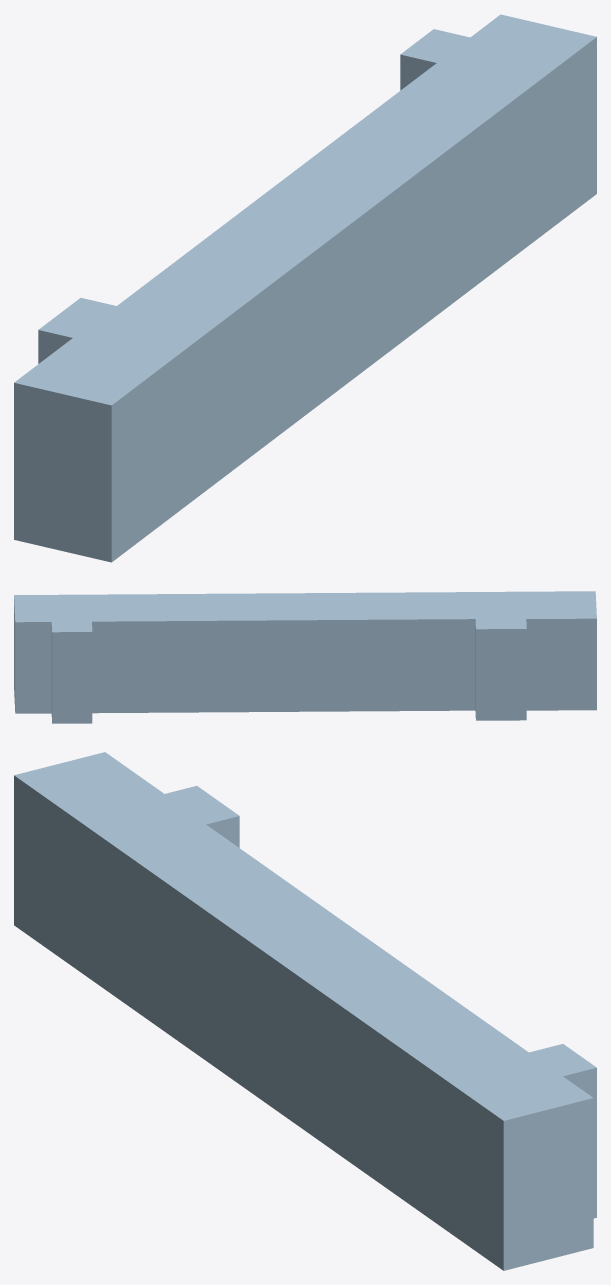
Rendered from osm_way_225253706.glb.
3 views of the same model, one above another, from view 1: azimuth 30°, elevation 25°; view 2: azimuth 150°, elevation 25°; view 3: azimuth 270°, elevation 25° (orthographic). The views are drawn at different scales.
Visible parts, largest first — view 1: osm_way_225253706; view 2: osm_way_225253706; view 3: osm_way_225253706.
Part boxes in pixels (x1,y1,x2,y2): osm_way_225253706: (14,14,596,562); osm_way_225253706: (14,591,596,723); osm_way_225253706: (14,752,596,1270).
Size of the model in its own units: 101 by 19.2 by 67.62.
